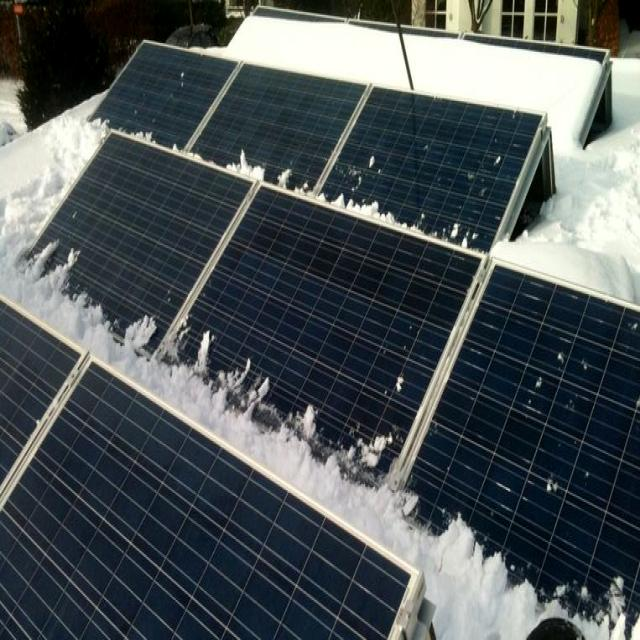panel: (162, 312, 408, 562), (419, 466, 640, 640), (22, 232, 156, 404), (336, 177, 502, 259), (202, 134, 331, 200), (96, 99, 187, 169)
